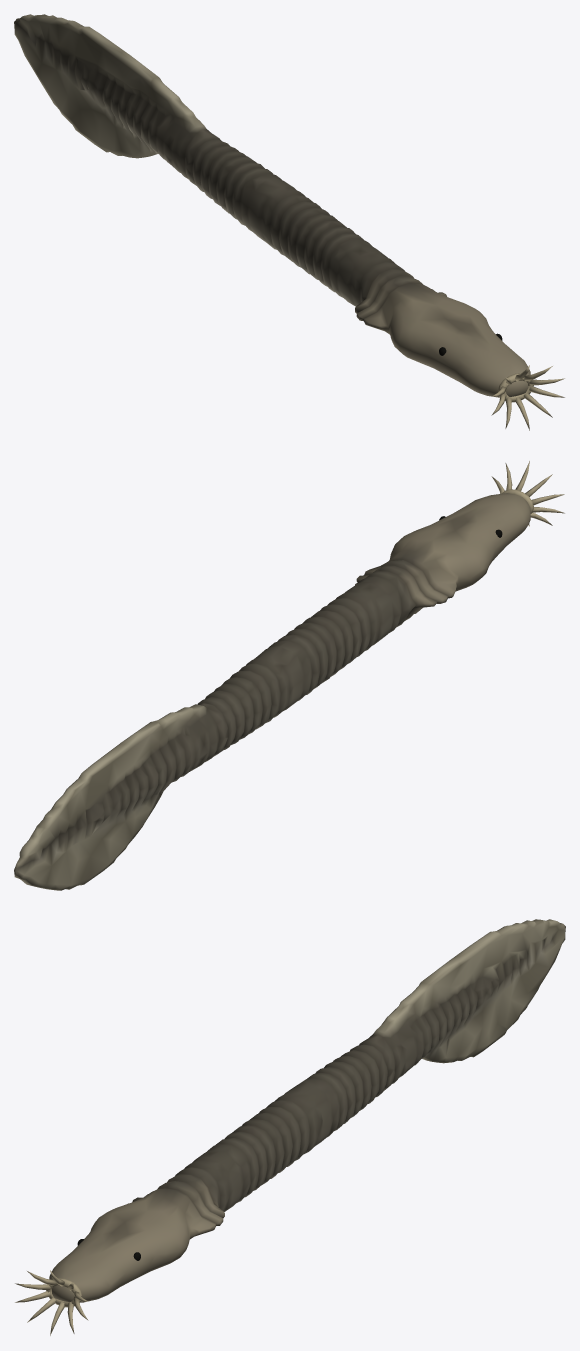
Rendered from PalaeospondylusAustralis.fbx.
3 views of the same model, one above another, from view 1: azimuth 30°, elevation 25°; view 2: azimuth 150°, elevation 25°; view 3: azimuth 330°, elevation 25° (orthographic).
Parts seen in each view (by area): view 1: PalaeospondylusAustralis; view 2: PalaeospondylusAustralis; view 3: PalaeospondylusAustralis.
Boxes of the visible parts, x1=… form: PalaeospondylusAustralis: x1=14, y1=14, x2=564, y2=430; PalaeospondylusAustralis: x1=14, y1=461, x2=564, y2=890; PalaeospondylusAustralis: x1=15, y1=919, x2=565, y2=1335.
Bounding box in the file's own units: 0.1998 × 0.2385 × 2.02.
